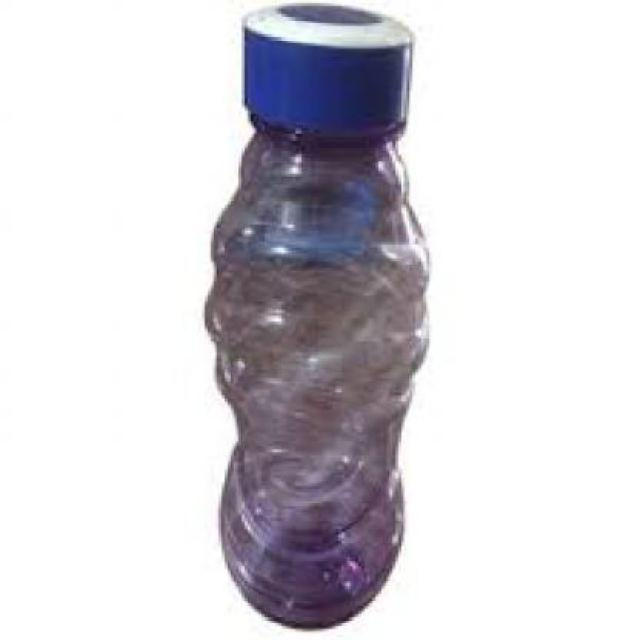Drinking: (207, 0, 430, 632)
